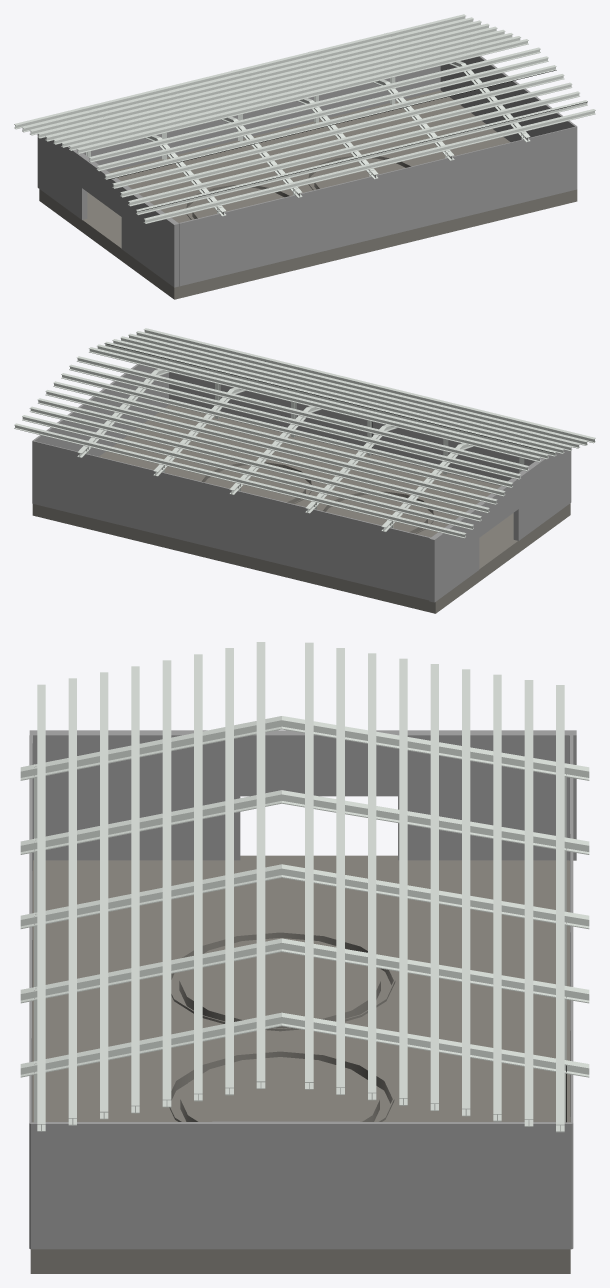
The model's file is gedung.fbx.
3 renders of one model, top to bottom at view 1: azimuth 30°, elevation 25°; view 2: azimuth 150°, elevation 25°; view 3: azimuth 270°, elevation 25°, orthographic. The views are drawn at different scales.
Visible parts, largest first — view 1: TEMBOK DEPAN.003; view 2: TEMBOK DEPAN.003; view 3: TEMBOK DEPAN.003.
Part boxes in pixels (x1,y1,x2,y2): TEMBOK DEPAN.003: (14, 14, 595, 299); TEMBOK DEPAN.003: (14, 328, 595, 613); TEMBOK DEPAN.003: (20, 642, 589, 1273).
Size of the model in its own units: 4622 by 1041 by 2529.
Materials: 1 (1 with a texture image).
